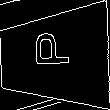P_W: (33, 38, 76, 77)
